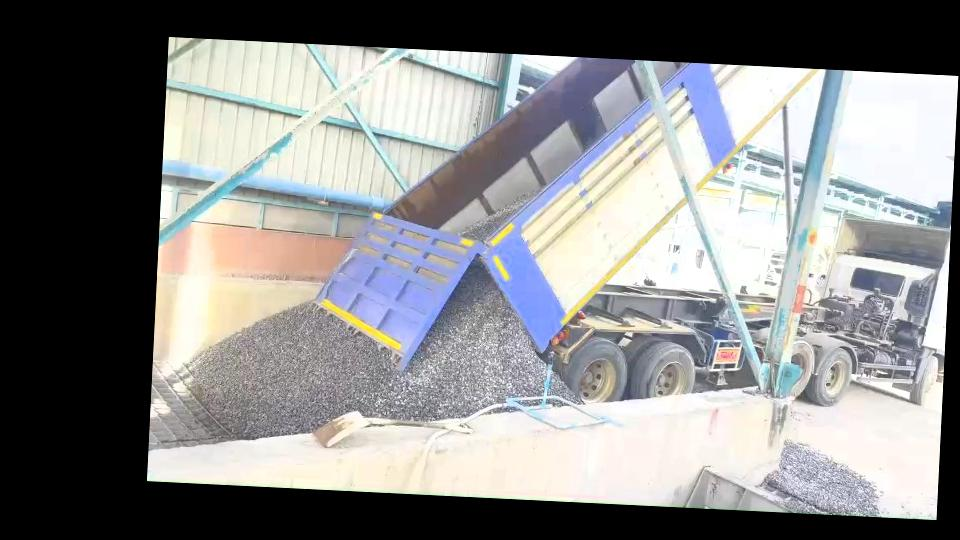gravel: (189, 262, 546, 438), (764, 440, 878, 515), (459, 189, 540, 241)
